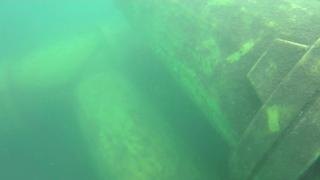pipe: (108, 1, 320, 180), (73, 68, 206, 180), (1, 25, 125, 92)
